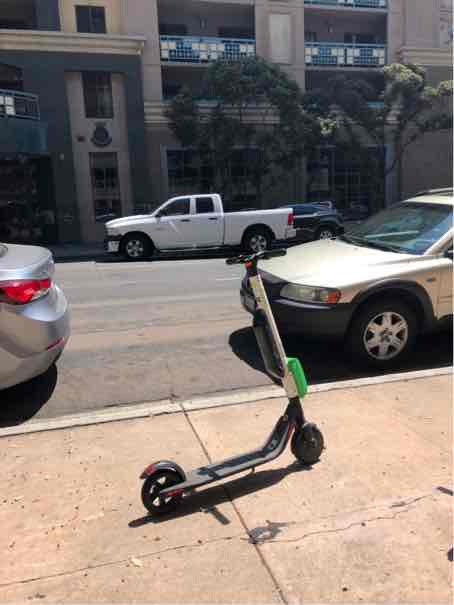scooter: (137, 227, 332, 523)
